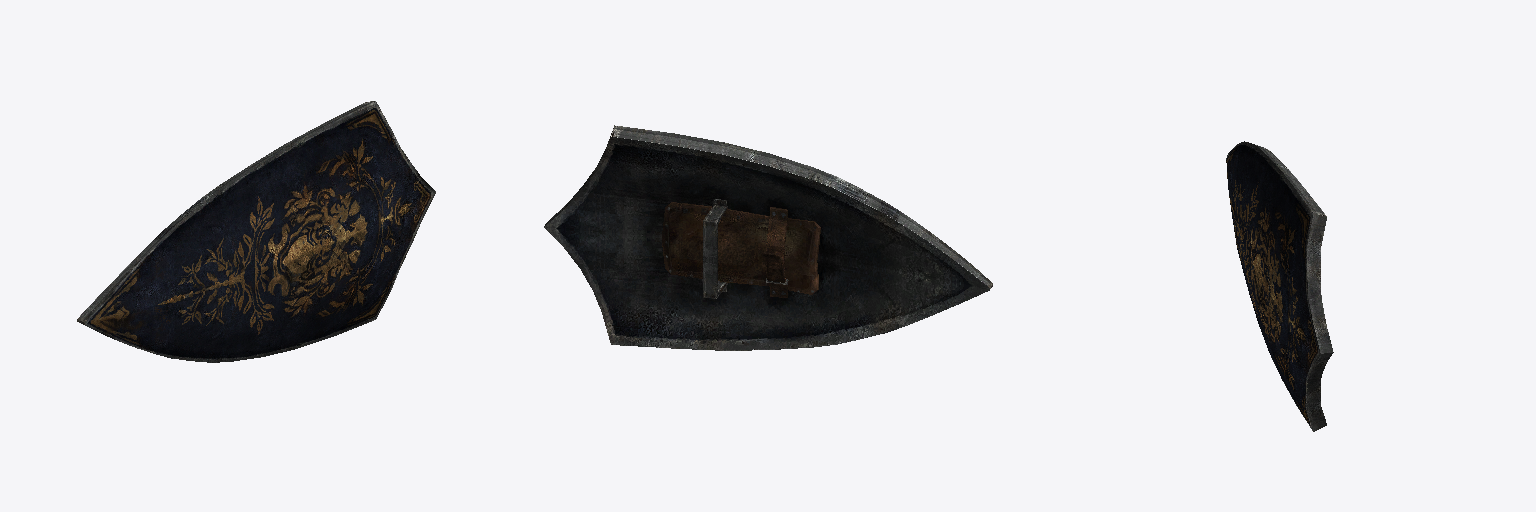
3 renders of one model, left to right at view 1: azimuth 30°, elevation 25°; view 2: azimuth 150°, elevation 25°; view 3: azimuth 270°, elevation 25°, orthographic.
Parts seen in each view (by area): view 1: mesh0; view 2: mesh0, mesh1; view 3: mesh0.
Boxes of the visible parts, x1,y1,x2,y2 form: mesh0: [77, 101, 435, 362]; mesh0: [544, 125, 992, 350]; mesh1: [662, 202, 820, 297]; mesh0: [1226, 141, 1333, 431].
Bounding box in the file's own units: 0.9217 × 0.4806 × 0.2136.
2 materials, 1 textured.